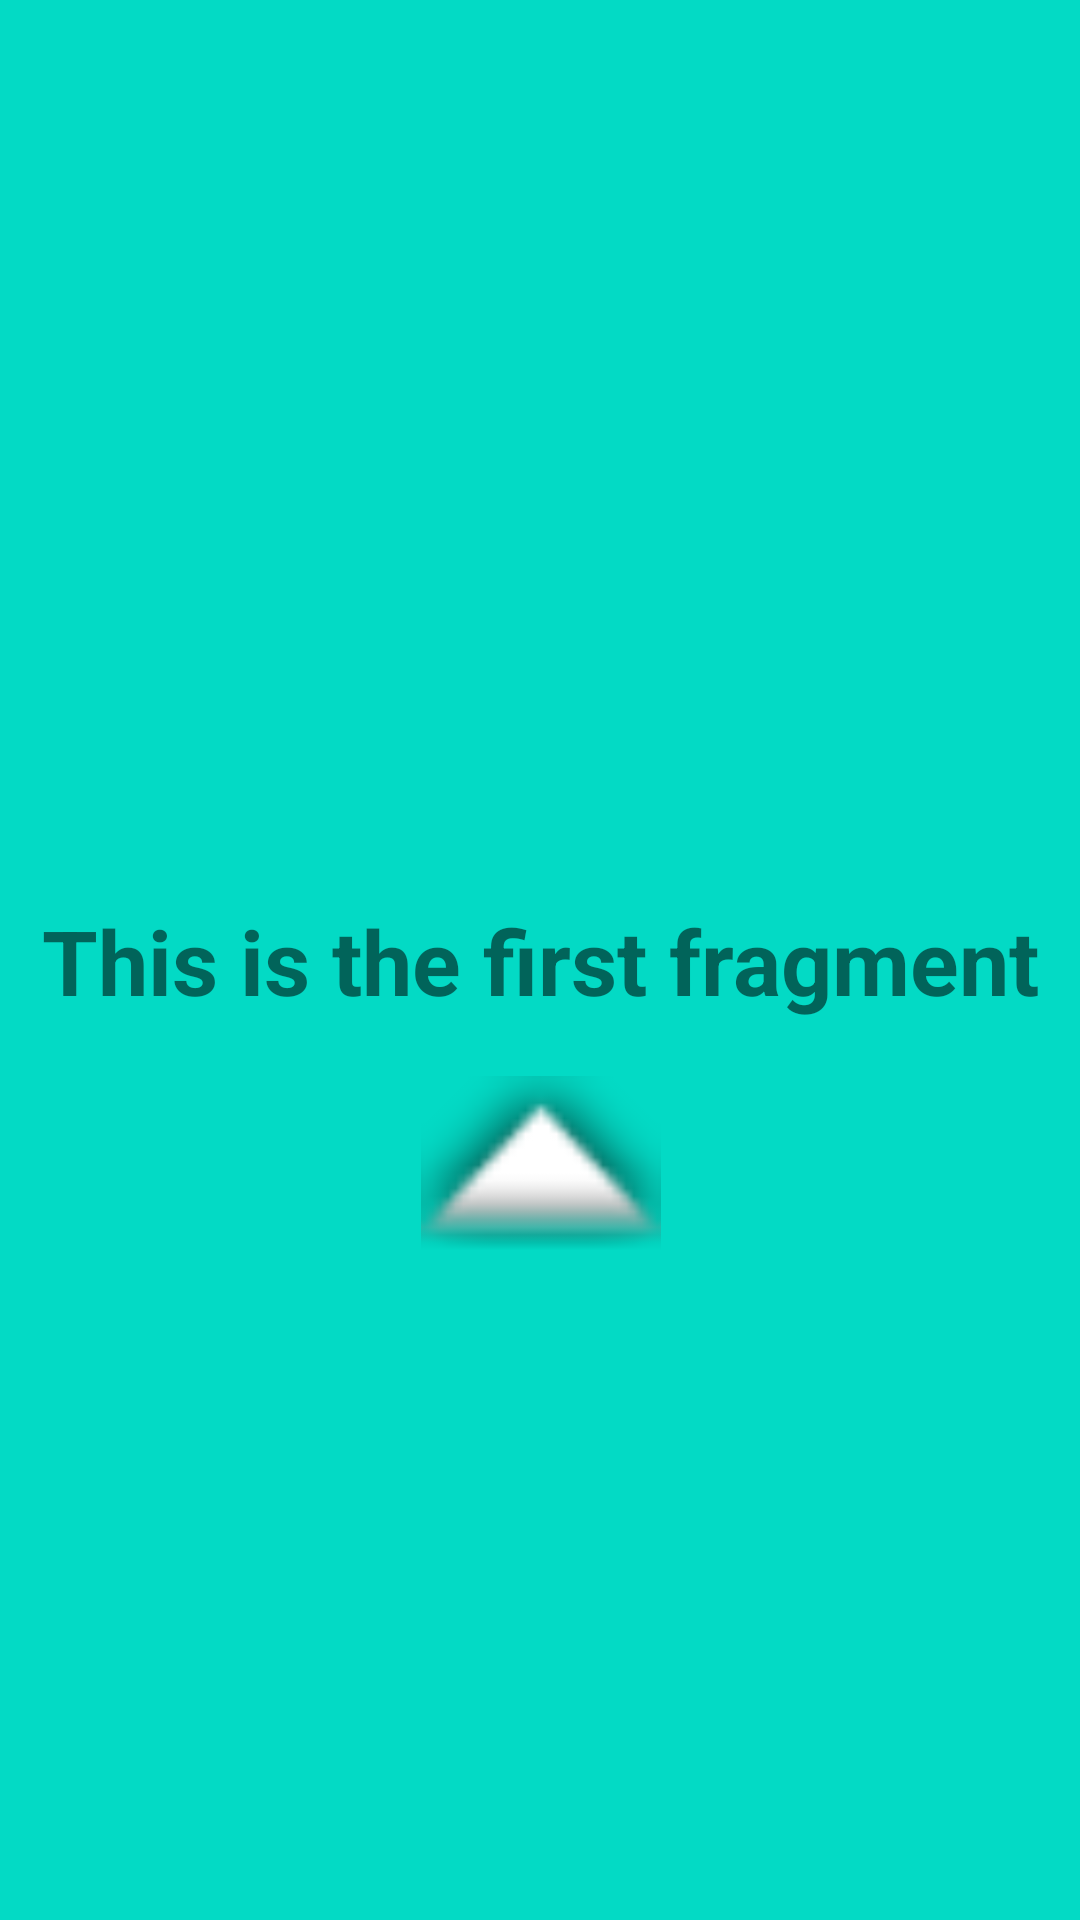

Icon click points for this 1080px×1920px phone screenshot, format [x,y]:
arrow up float: [541,1163]
